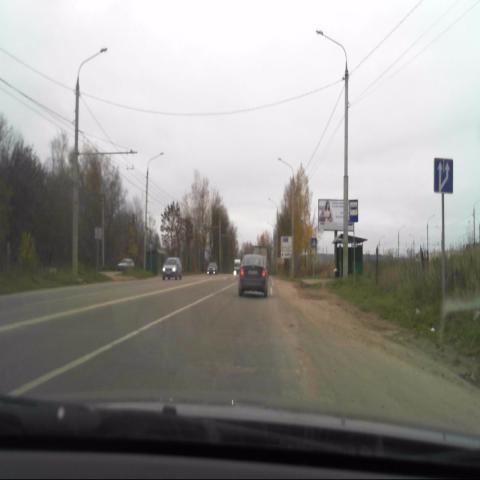5_15_3: (434, 158, 452, 194)
